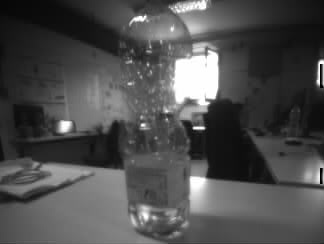Bottle: (118, 1, 195, 239)
